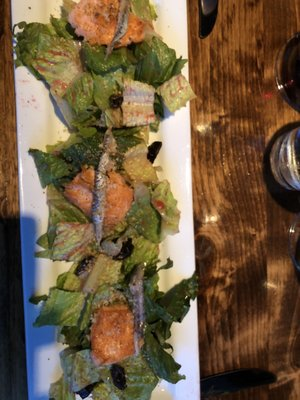curry: (0, 4, 300, 400)
sandwich: (263, 89, 300, 393)
